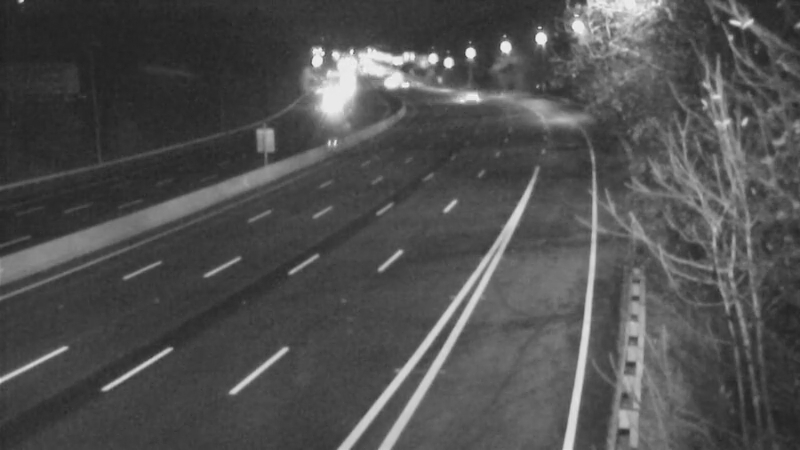vehicle: (440, 70, 490, 120), (307, 74, 357, 124)
